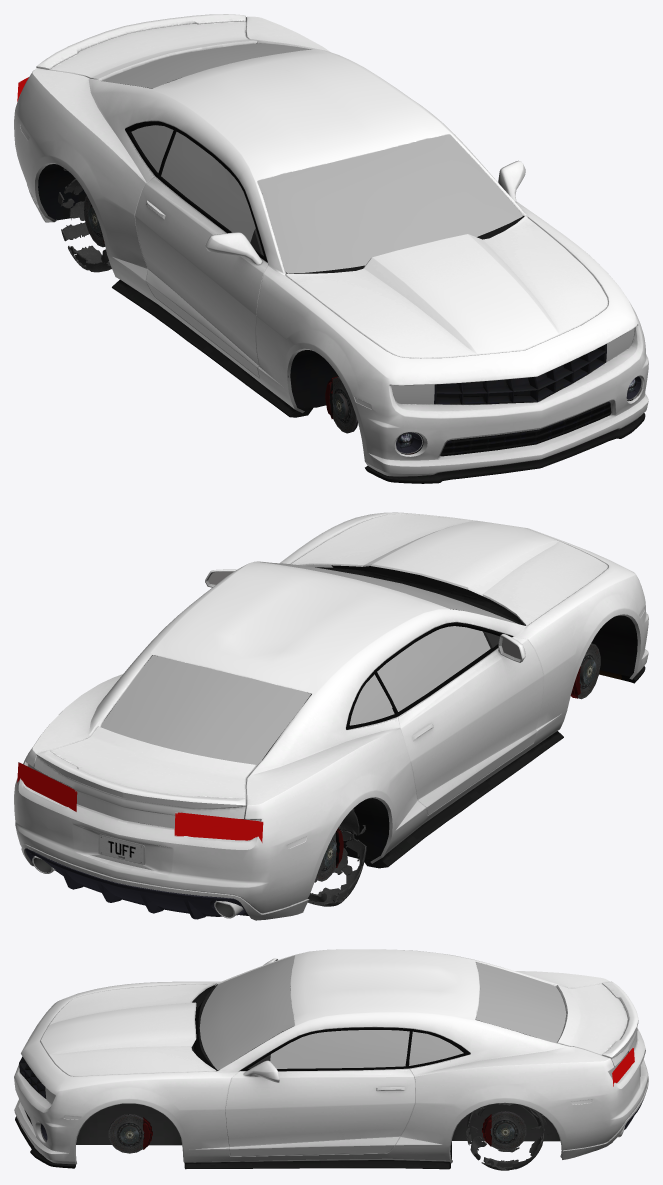
Rendered from 23_Camaro10.fbx.
The picture shows the model from 3 angles, top to bottom: view 1: azimuth 30°, elevation 25°; view 2: azimuth 150°, elevation 25°; view 3: azimuth 270°, elevation 25°; orthographic projection. The views are drawn at different scales.
Parts seen in each view (by area): view 1: body_duco, body_glass, body_kit_00, body_matte, body_glossy, body_glossy_duco, Rotor; view 2: body_duco, body_glass, body_kit_00, body_glossy, body_matte, BrakeLights, body_glossy_duco, NumberPlate, Rotor; view 3: body_duco, body_glass, body_kit_00, body_matte, body_glossy_duco, Rotor (×2), body_glossy, BrakeLights.
Boxes of the visible parts, x1,y1,x2,y2 form: body_duco: (14, 14, 648, 476); body_glass: (101, 43, 634, 404); body_kit_00: (285, 215, 608, 358); body_matte: (38, 43, 641, 456); body_glossy: (125, 121, 636, 447); body_glossy_duco: (112, 279, 645, 483); Rotor: (332, 377, 357, 433); body_duco: (14, 512, 648, 920); body_glass: (28, 562, 517, 821); body_kit_00: (291, 514, 608, 625); body_glossy: (25, 571, 521, 919); body_matte: (34, 609, 637, 917); BrakeLights: (17, 762, 263, 842); body_glossy_duco: (364, 666, 645, 868); NumberPlate: (98, 834, 145, 864); Rotor: (578, 643, 600, 699); body_duco: (14, 949, 648, 1164); body_glass: (45, 955, 627, 1103); body_kit_00: (40, 983, 218, 1076); body_matte: (24, 1019, 560, 1158); body_glossy_duco: (15, 1116, 450, 1169); Rotor (×2): (108, 1111, 526, 1153); body_glossy: (19, 960, 643, 1129); BrakeLights: (612, 1047, 634, 1086).
Size of what is drawn, in the model's own units: 2.09 by 1.29 by 4.83.
